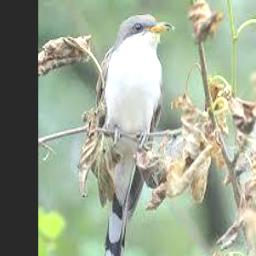Cuckoo: (97, 12, 175, 256)
